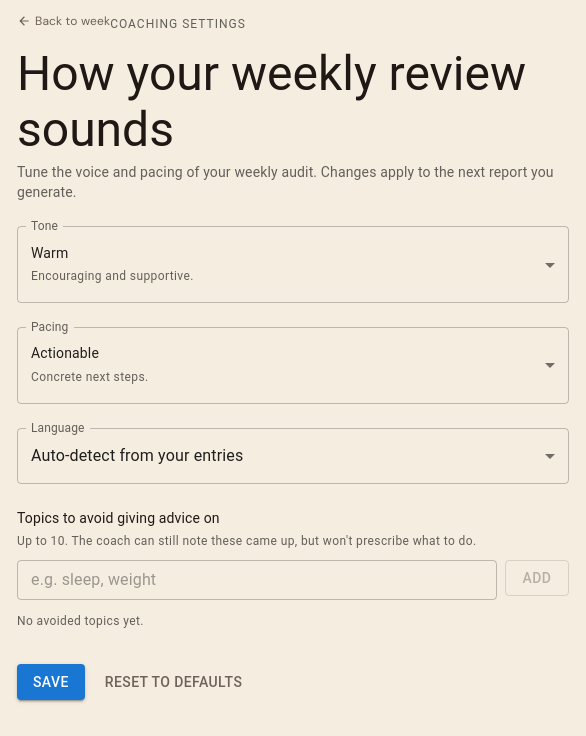
Test: SettingsPage › shows a general error alert when the save fails for a non-422 reason
The image size is (586, 736).
Expected: the heading "How your weekly review sounds" is shown, [17,46,569,158]
Click the button "Save" at point(51, 682), box [17,664,85,700]
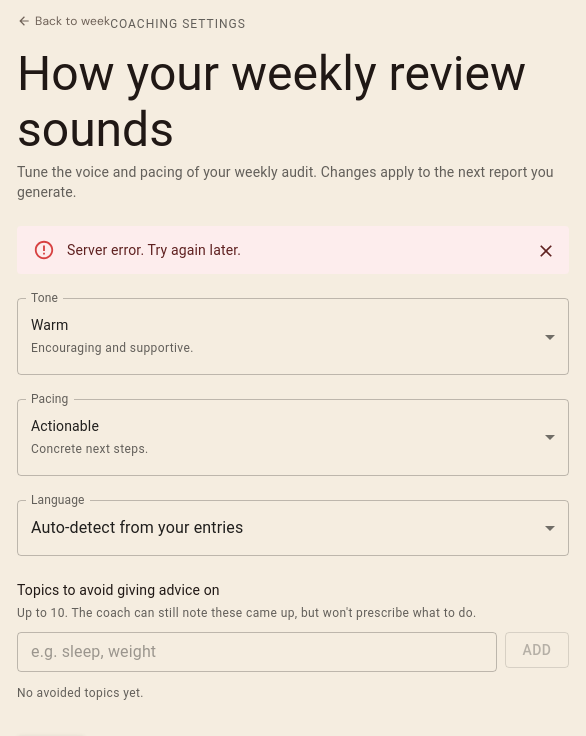
Expected: the text "Server error. Try again later." is shown, [67,242,241,258]
